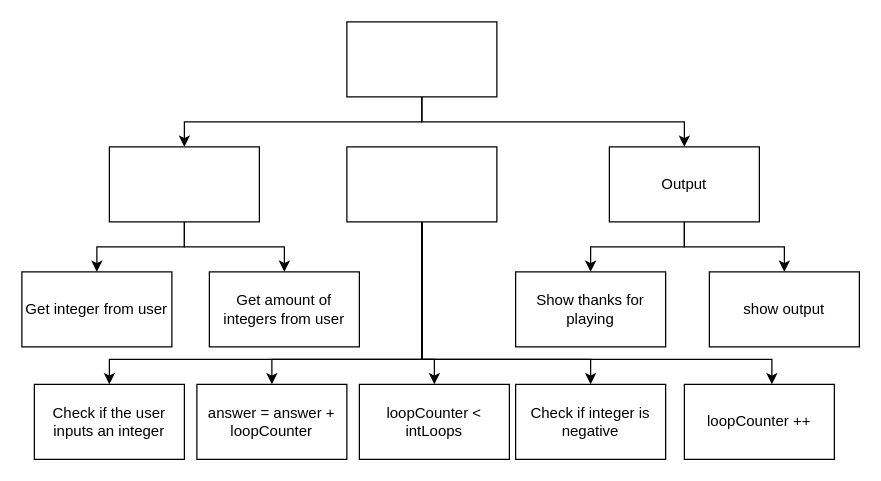
Some shapes in this 881 by 481 pixel diagram are drawn without their labels. Here are the shapes that lost their labels. From the top down, the centre of each, then its label:
At pixel 421 59: "Positive Number program".
At pixel 183 184: "Input".
At pixel 421 184: "Process".
